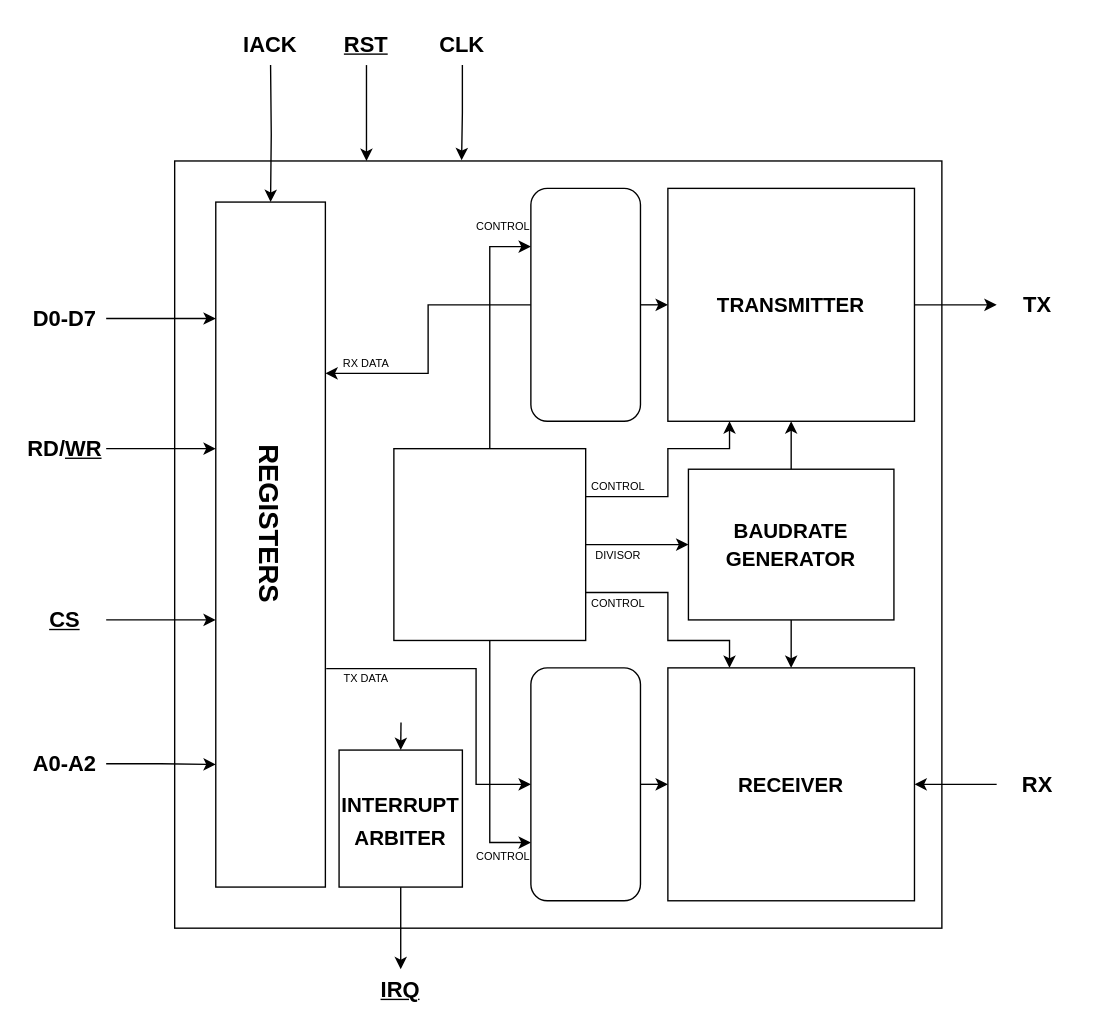
Some shapes in this 1101 by 1033 pixel diagram are drawn without their labels. The centre of each missing label's shape, as x and y in pixels:
MAIN CONTROLLER: point 489,543
RX FIFO: point 585,304
TX FIFO: point 585,784
